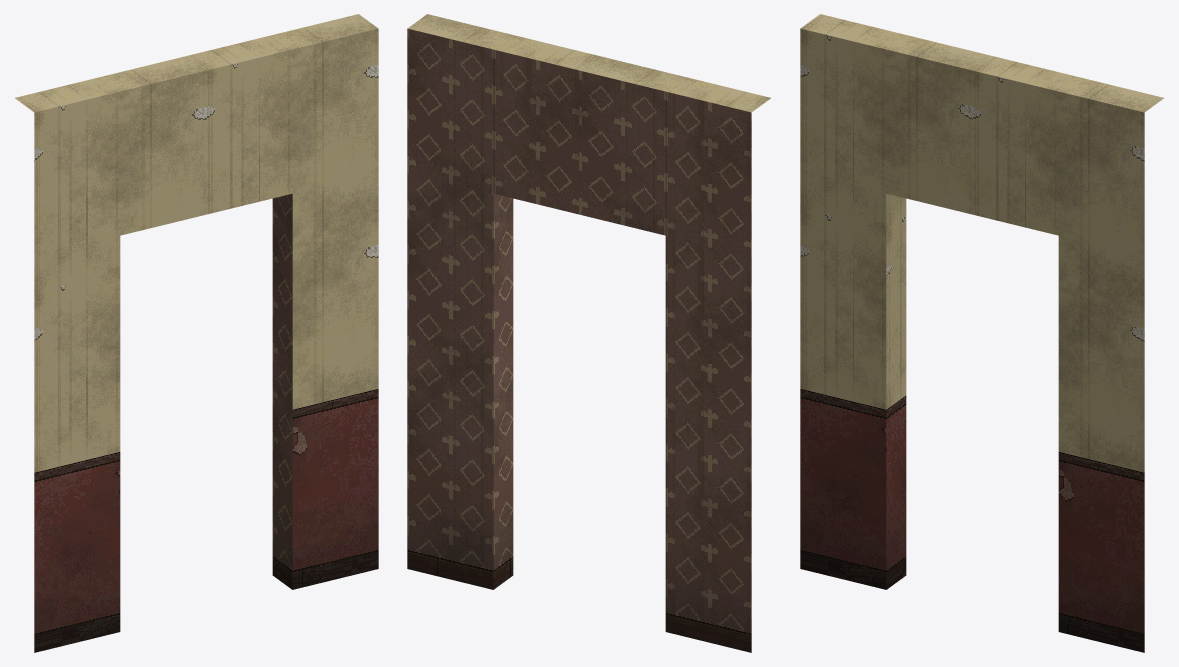
File: wall_doorway_flat_model.glb
3 renders of one model, left to right at view 1: azimuth 30°, elevation 25°; view 2: azimuth 150°, elevation 25°; view 3: azimuth 330°, elevation 25°, orthographic.
Parts seen in each view (by area): view 1: wall_doorway_flat; view 2: wall_doorway_flat; view 3: wall_doorway_flat.
Boxes of the visible parts, bbox=[...] form: wall_doorway_flat: bbox=[15, 14, 378, 652]; wall_doorway_flat: bbox=[407, 14, 770, 652]; wall_doorway_flat: bbox=[800, 14, 1163, 652].
Bounding box in the file's own units: 2 × 3 × 0.2.
1 material, 1 textured.
